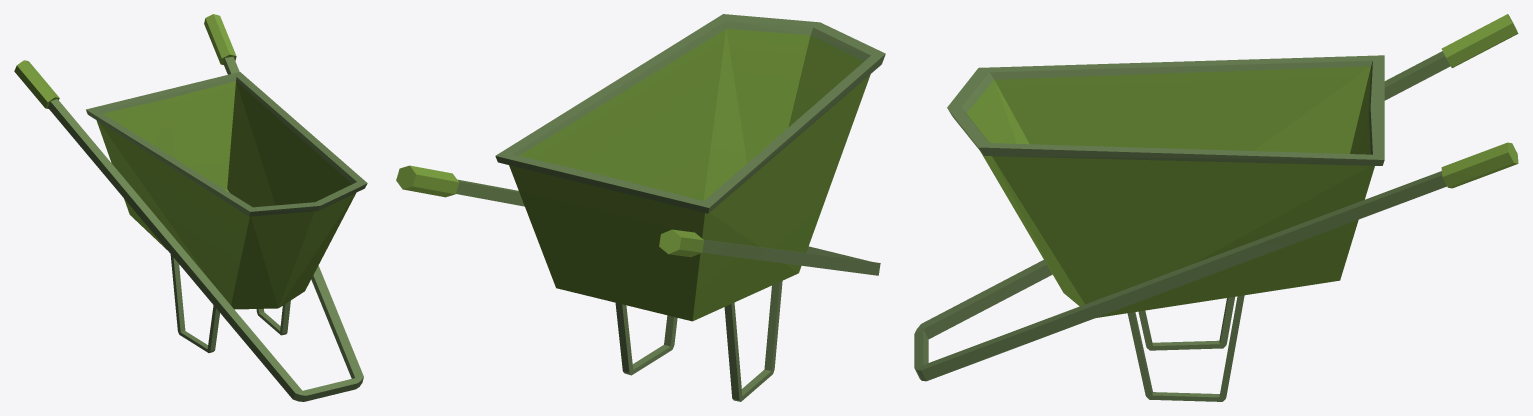
File: Wheelbarrow_01.fbx
The picture shows the model from 3 angles, left to right: view 1: azimuth 30°, elevation 25°; view 2: azimuth 150°, elevation 25°; view 3: azimuth 270°, elevation 25°; orthographic projection. The views are drawn at different scales.
Visible parts, largest first — view 1: Wheelbarrow_01; view 2: Wheelbarrow_01; view 3: Wheelbarrow_01.
Boxes of the visible parts, x1,y1,x2,y2 form: Wheelbarrow_01: (14,14,367,401); Wheelbarrow_01: (396,14,885,401); Wheelbarrow_01: (914,14,1518,401).
Size of the model in its own units: 0.8831 by 0.8764 by 1.62.
